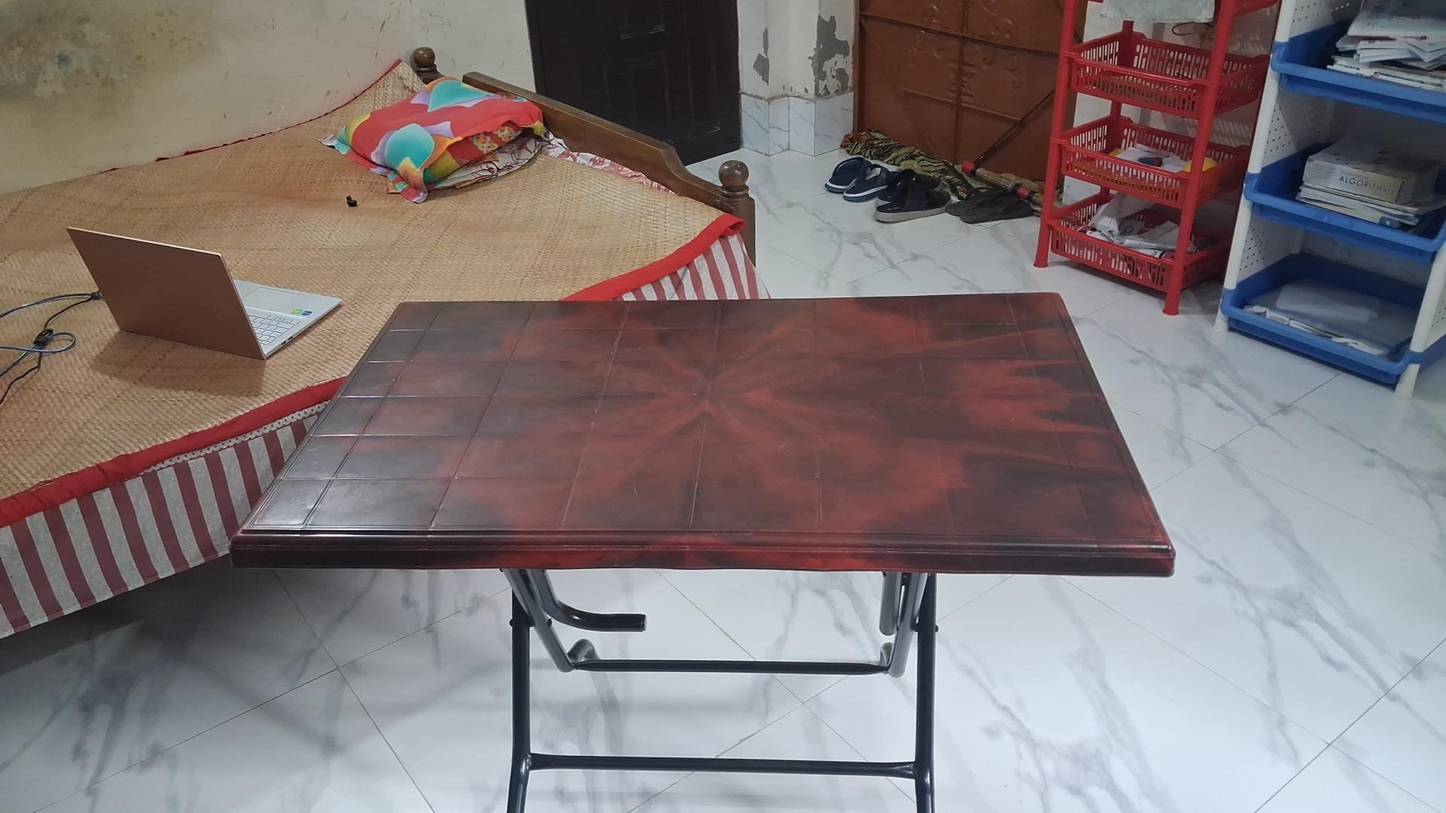Footwear: (875, 170, 949, 221), (948, 190, 1033, 226), (823, 155, 888, 201)
Laptop: (65, 225, 344, 362)
Pillow: (322, 79, 543, 194)
Rack: (1213, 0, 1441, 398), (1035, 0, 1276, 313)
Table: (236, 296, 1181, 805)
